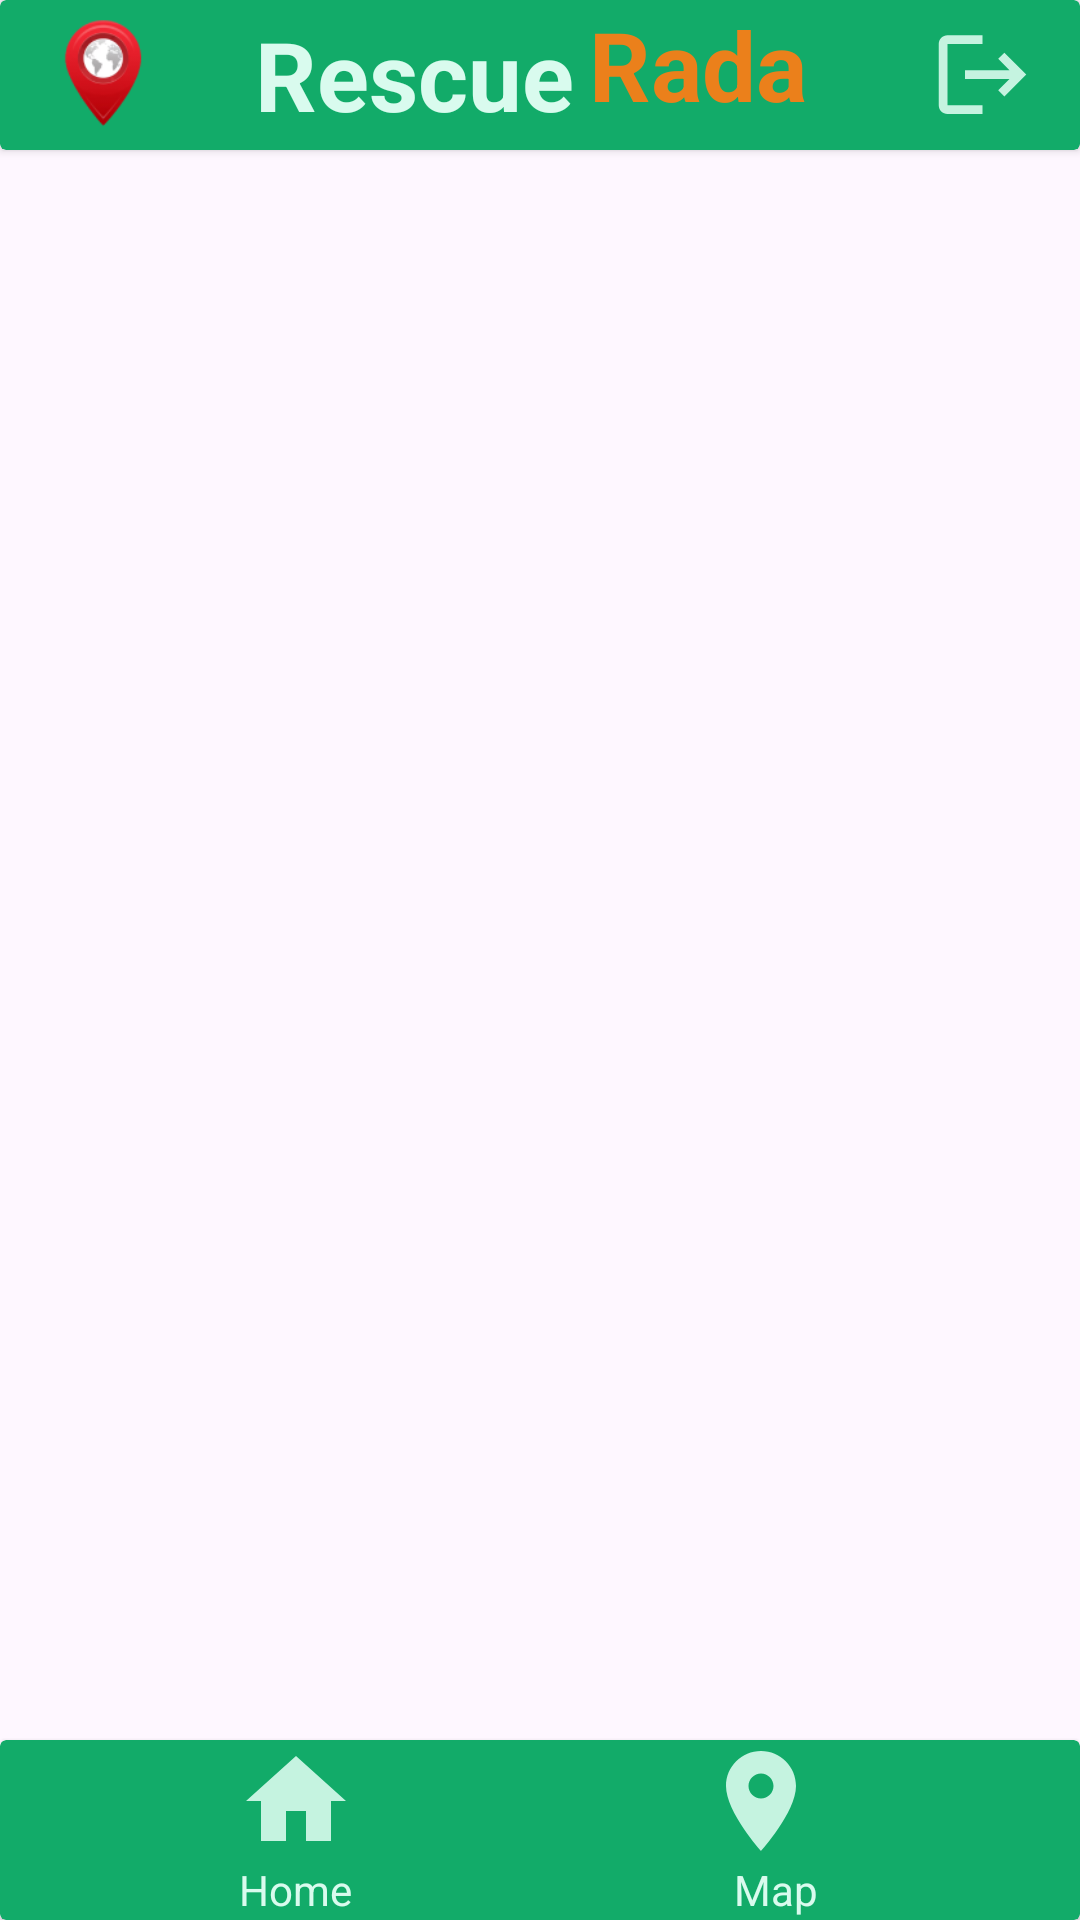

Screen size 1080 x 1920. Icon name, then its box in pixels as (x1, y1, x2, y2):
locimage: (65, 20, 142, 126)
